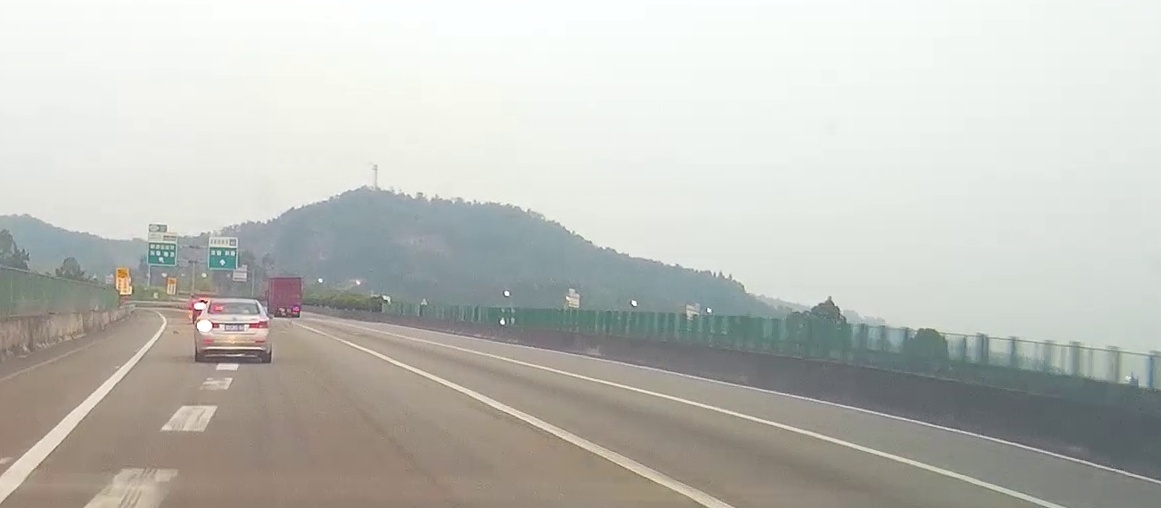L_light: (196, 320, 219, 329)
R_light: (249, 321, 268, 328)
T_light: (229, 302, 240, 304)
day-left: (195, 300, 271, 363)
